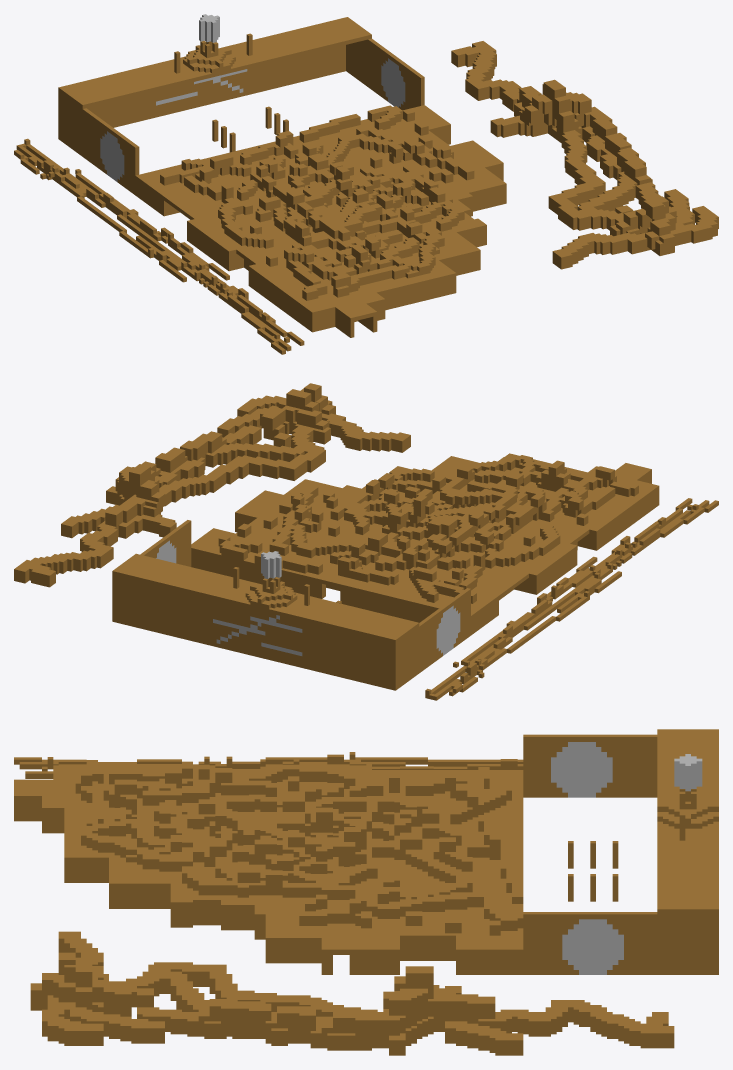
File: maze.obj
3 renders of one model, top to bottom at view 1: azimuth 30°, elevation 25°; view 2: azimuth 150°, elevation 25°; view 3: azimuth 270°, elevation 25°, orthographic. The views are drawn at different scales.
Size of the model in its own units: 124 by 24 by 126.
1 material, 1 textured.
